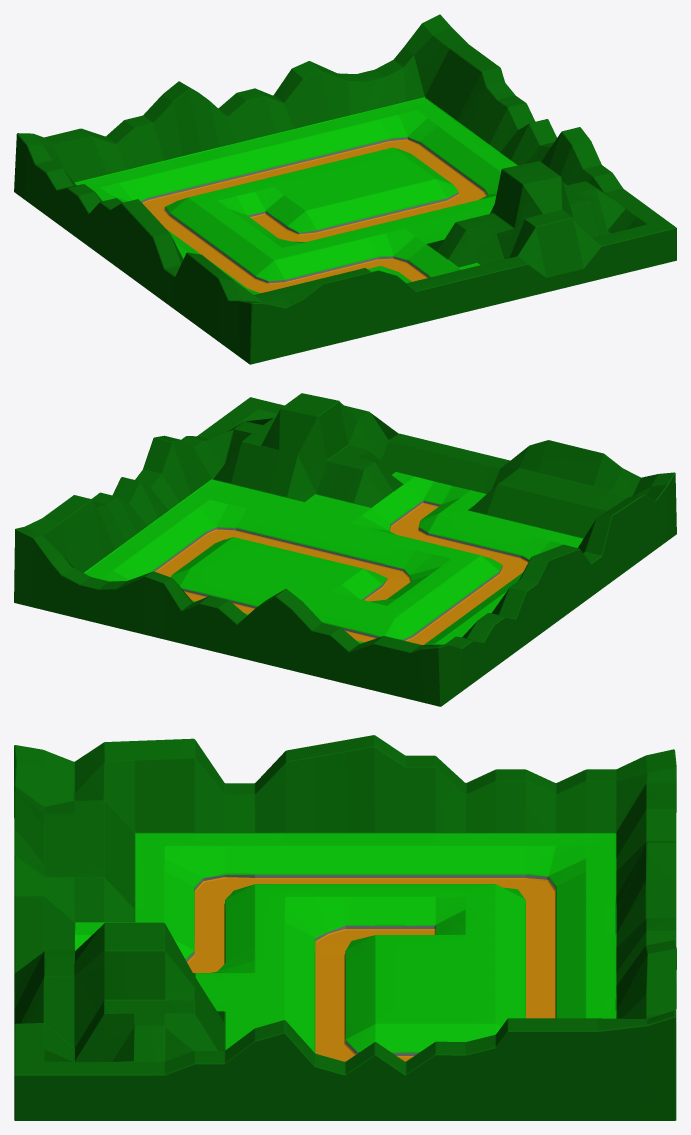
Rendered from TerrainExBeveled.fbx.
The picture shows the model from 3 angles, top to bottom: view 1: azimuth 30°, elevation 25°; view 2: azimuth 150°, elevation 25°; view 3: azimuth 270°, elevation 25°; orthographic projection. The views are drawn at different scales.
Visible parts, largest first — view 1: pPlane1; view 2: pPlane1; view 3: pPlane1.
Part boxes in pixels (x1=…): pPlane1: x1=14, y1=14, x2=676, y2=364; pPlane1: x1=14, y1=393, x2=676, y2=706; pPlane1: x1=14, y1=735, x2=676, y2=1120.
Size of the model in its own units: 21.92 by 4.02 by 20.98.
